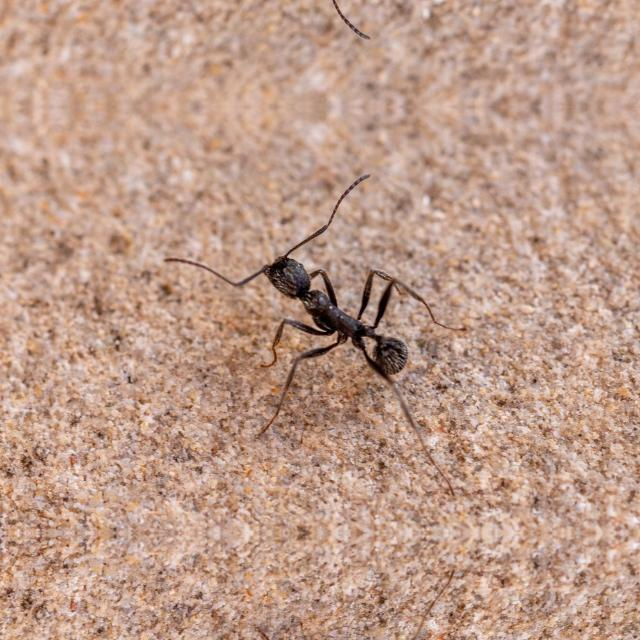Apheanogaster: (230, 223, 450, 387)
